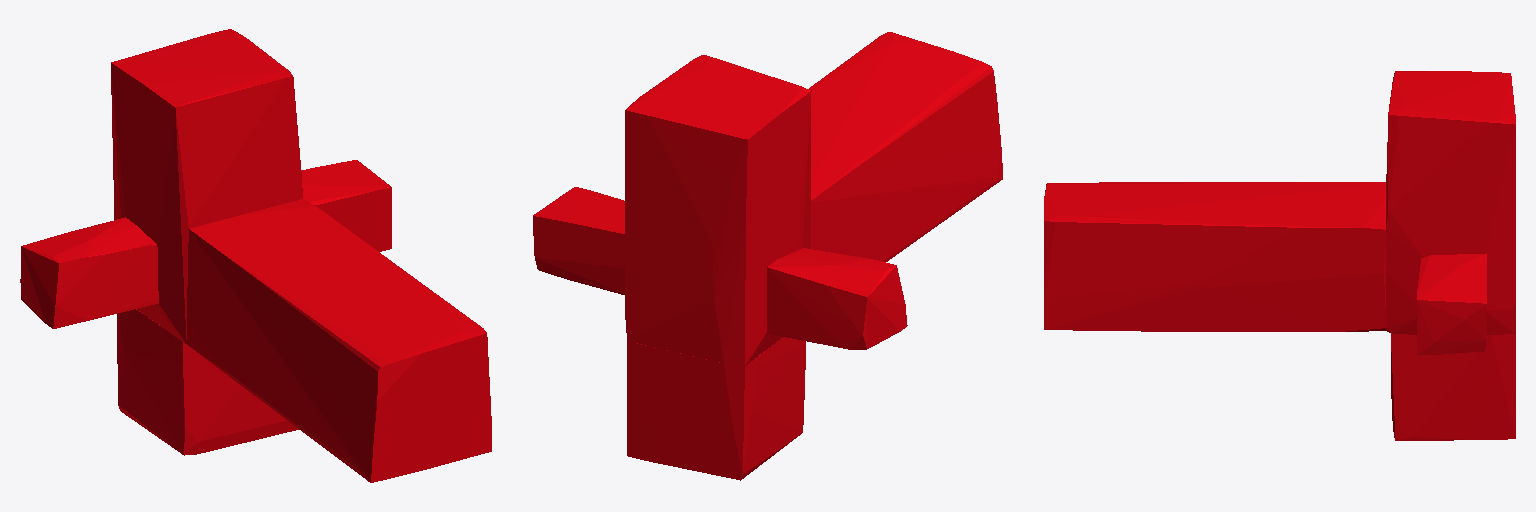
robot.urdf — blob789:
<robot name="blob789">
  <link name="random_obj_789">
    <contact>
      <lateral_friction value="1.0"/>
      <rolling_friction value="0.0"/>
      <inertia_scaling value="3.0"/>
      <contact_cfm value="0.0"/>
      <contact_erp value="1.0"/>
    </contact>
    <inertial>
      <origin rpy="0 0 0" xyz="0 0 0"/>
      <mass value="0.1"/>
      <inertia ixx="1" ixy="0" ixz="0" iyy="1" iyz="0" izz="0"/>
    </inertial>
    <visual>
      <origin rpy="0 0 0" xyz="0 0 0"/>
      <geometry>
        <mesh filename="789.obj" scale="0.015 0.015 0.015"/>
      </geometry>
      <material name="blockmat">
        <color rgba="0.92 0.04 0.10 1"/>
      </material>
    </visual>
    <collision>
      <origin rpy="0 0 0" xyz="0 0 0"/>
      <geometry>
        <mesh filename="789.obj" scale="0.015 0.015 0.015"/>
      </geometry>
    </collision>
  </link>
</robot>

--- What the picture shows (computed from the rendered views, not written in the file) ---
3 views of the same robot in one strip: view 1: azimuth 30°, elevation 25°; view 2: azimuth 150°, elevation 25°; view 3: azimuth 270°, elevation 25° (orthographic).
Model blob789 with 1 links and 0 joints (none), rooted at random_obj_789, posed all joints at 0.
Links seen in each view (by area): view 1: random_obj_789; view 2: random_obj_789; view 3: random_obj_789.
Boxes of the visible links, x1=… form: random_obj_789: x1=20, y1=29, x2=491, y2=482; random_obj_789: x1=533, y1=32, x2=1002, y2=480; random_obj_789: x1=1044, y1=71, x2=1515, y2=440.
Bounding box of the posed robot: 0.0916 × 0.1216 × 0.0916 m (x, y, z).
Meshes: 1 distinct files referenced, 1 mesh visuals loaded (1 OBJ).